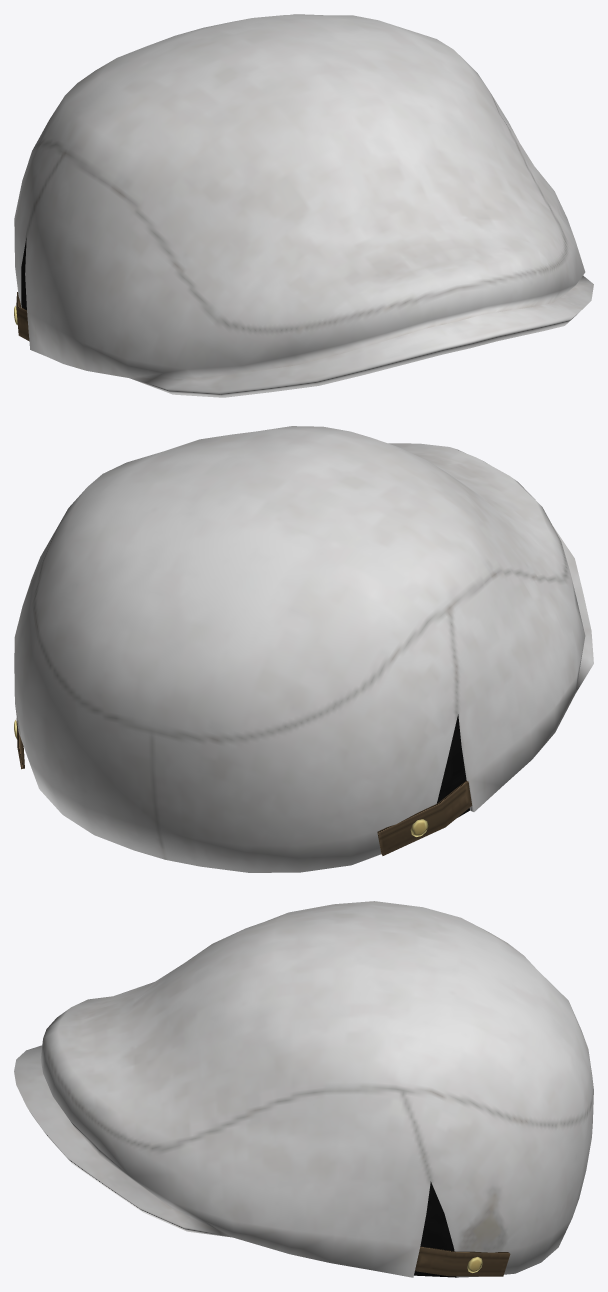
Rendered from p0_hdw0011_00_hdw00.gltf.
The picture shows the model from 3 angles, top to bottom: view 1: azimuth 30°, elevation 25°; view 2: azimuth 150°, elevation 25°; view 3: azimuth 270°, elevation 25°; orthographic projection. The views are drawn at different scales.
Parts seen in each view (by area): view 1: hdw00_cap_mesh_shape:cap; view 2: hdw00_cap_mesh_shape:cap; view 3: hdw00_cap_mesh_shape:cap.
Boxes of the visible parts, left/top/right/bottom form: hdw00_cap_mesh_shape:cap: left=14, top=14, right=593, bottom=397; hdw00_cap_mesh_shape:cap: left=14, top=426, right=593, bottom=872; hdw00_cap_mesh_shape:cap: left=14, top=901, right=593, bottom=1277.
Size of what is drawn, in the model's own units: 0.2943 by 0.1849 by 0.3487.
1 material, 1 textured.
